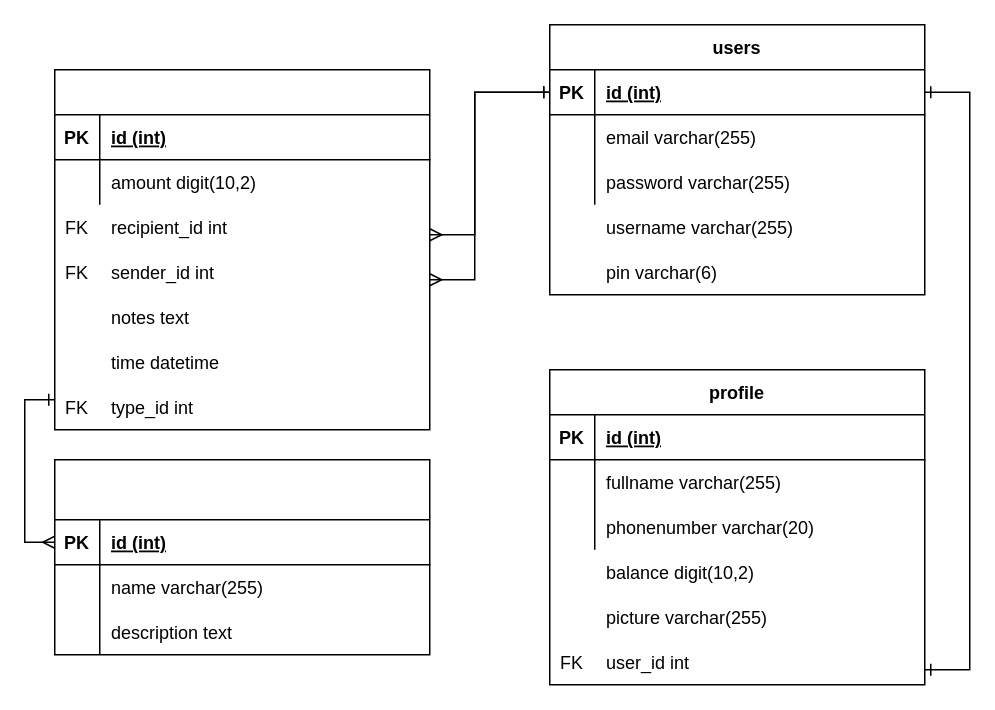
Some shapes in this 995 by 710 pixel diagram are drawn without their labels. Here are the shapes that lost their labels. From the top down, the box of each, then its label:
(53, 68, 430, 430): transaction
(53, 458, 430, 655): transaction_type
